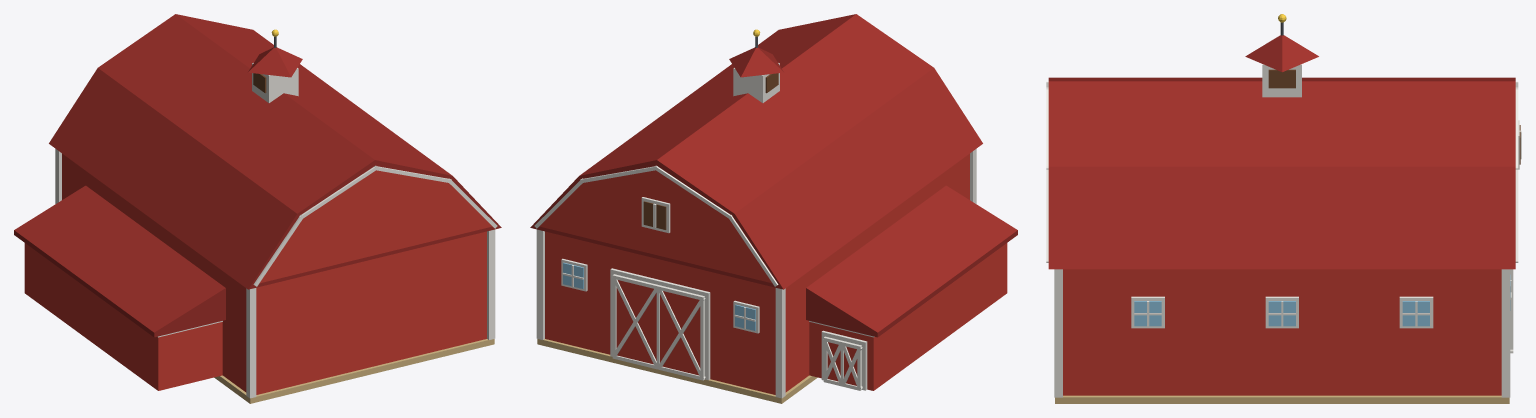
The model's file is BigBarn.fbx.
3 views of the same model, side by side, from view 1: azimuth 30°, elevation 25°; view 2: azimuth 150°, elevation 25°; view 3: azimuth 270°, elevation 25° (orthographic). The views are drawn at different scales.
Parts seen in each view (by area): view 1: BigBarn; view 2: BigBarn; view 3: BigBarn.
Boxes of the visible parts, x1,y1,x2,y2 form: BigBarn: [14, 14, 501, 403]; BigBarn: [530, 14, 1017, 403]; BigBarn: [1046, 14, 1521, 403].
Size of the model in its own units: 969 by 795 by 1072.
